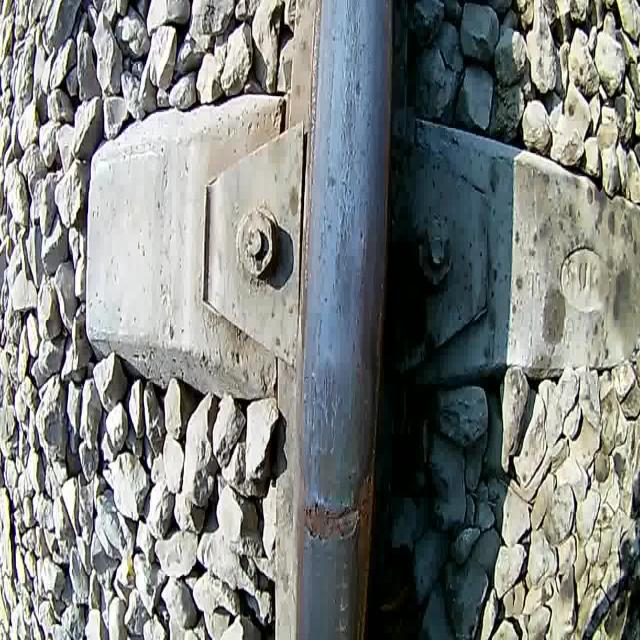Spallings: (295, 490, 363, 552)
Squats: (300, 343, 378, 507)
